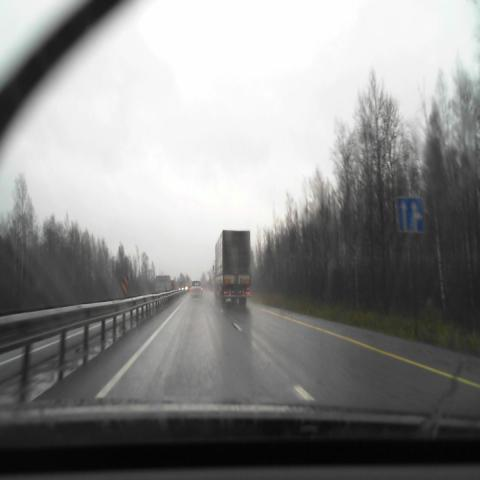5_15_2_2: (398, 198, 424, 234)
